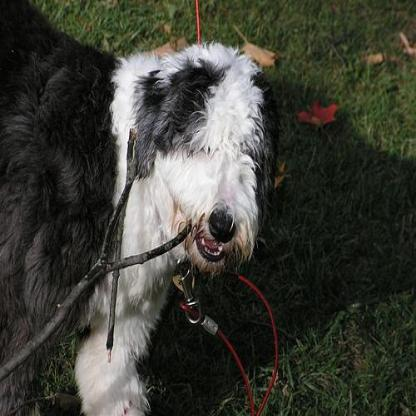Old_English_sheepdog: (1, 0, 284, 412)
